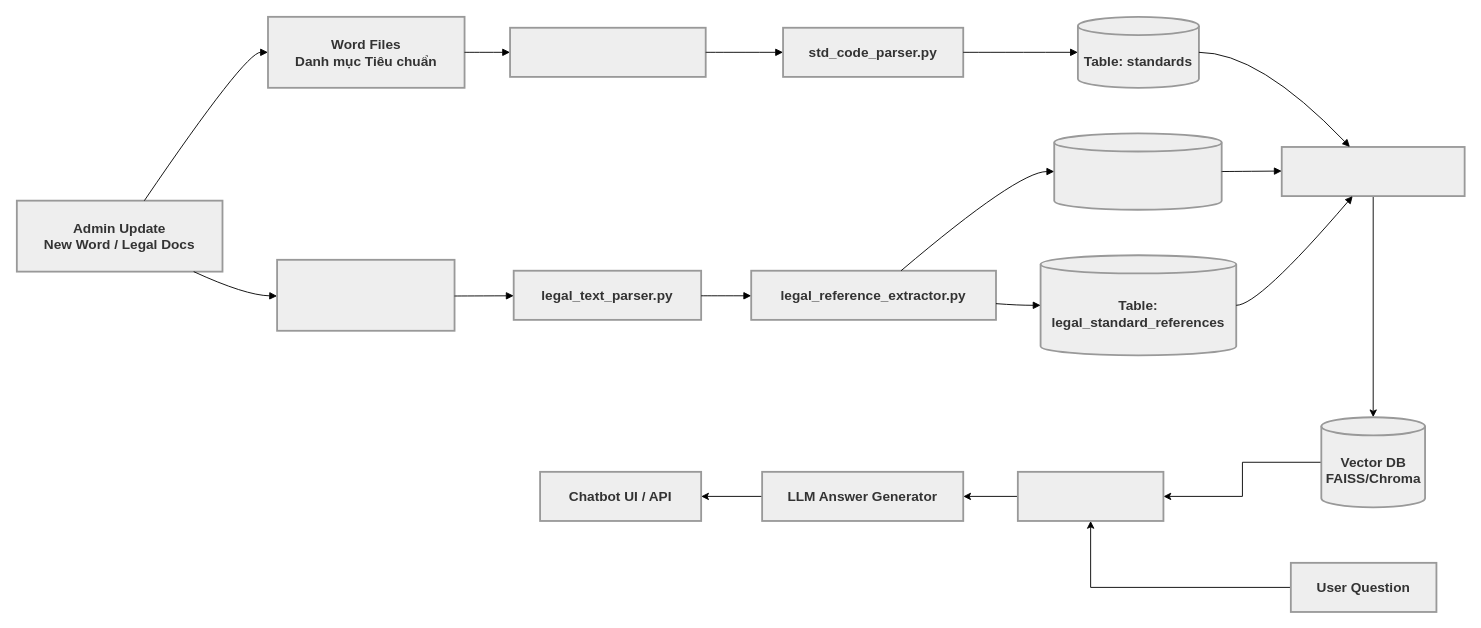
This 1481x628 diagram has some shape labels left out. Here are the shapes that lost their labels. From the top down, the box of each, then its label:
(509, 26, 706, 77): word_table_parser.py
(1053, 132, 1222, 210): Table: legal_documents
(1280, 146, 1465, 197): Embedding Pipeline
(276, 258, 455, 331): PDF/DOC Thông tư Nghị định
(1016, 470, 1164, 521): RAG Retriever
